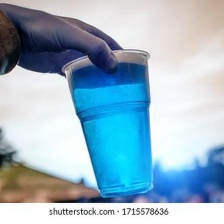glass: (53, 42, 166, 203)
